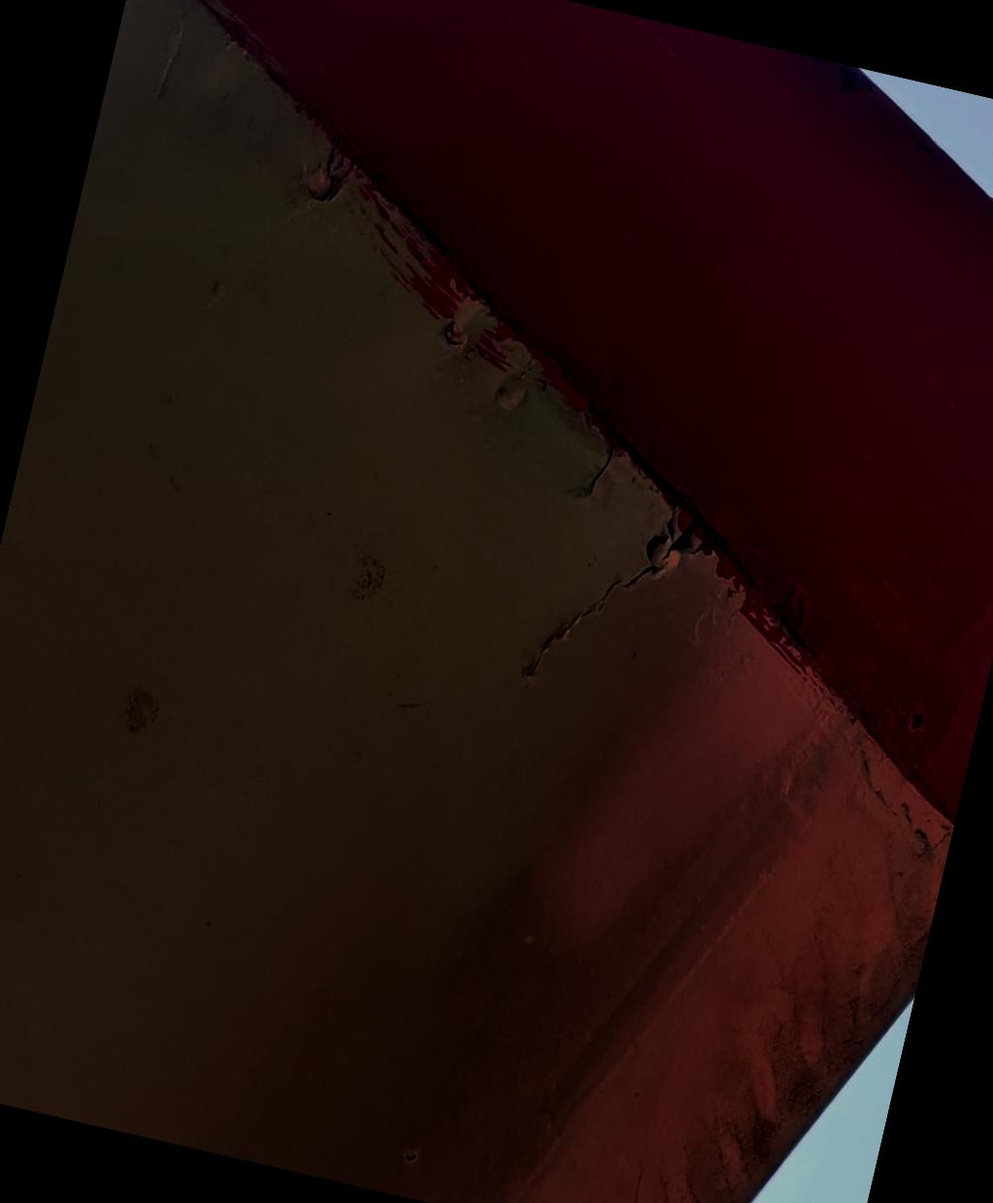crack: (500, 459, 725, 735), (563, 418, 640, 520), (305, 120, 367, 207)
